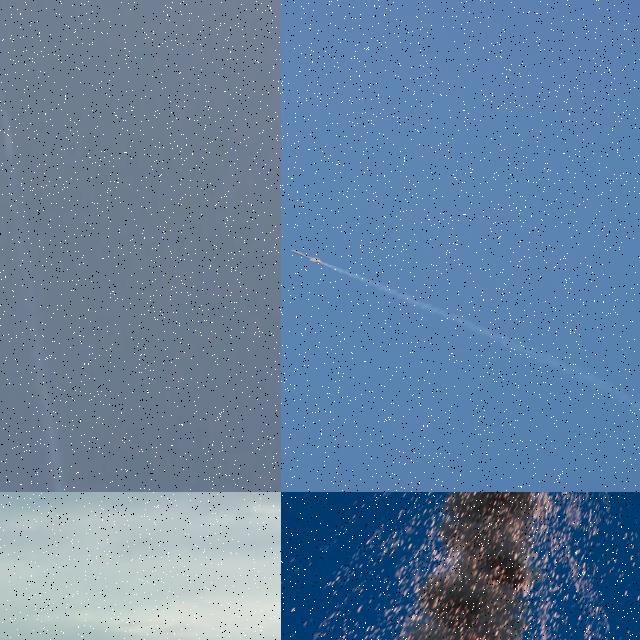Rocket: (290, 249, 323, 264), (0, 60, 1, 76)
